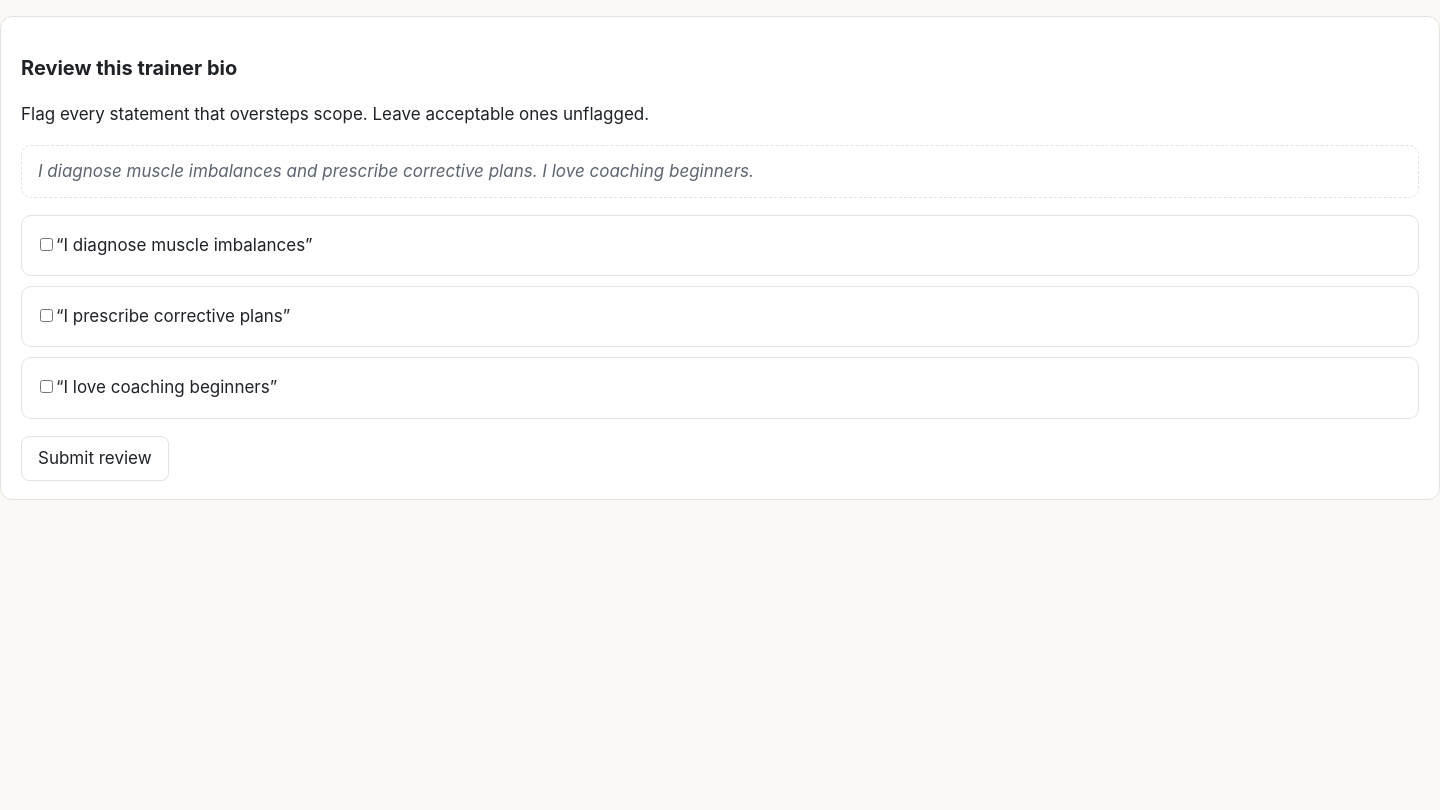
Scenario: ErrorId › grades flag-all-errors-no-false-flags and shows rationales
Expected: the text "I diagnose muscle imbalances and prescribe" is shown, top-left (38, 161), bottom-right (754, 181)
Click the checkbox labelled "“I diagnose muscle imbalances”".
click(46, 244)  # box top-left (40, 238), bottom-right (53, 251)
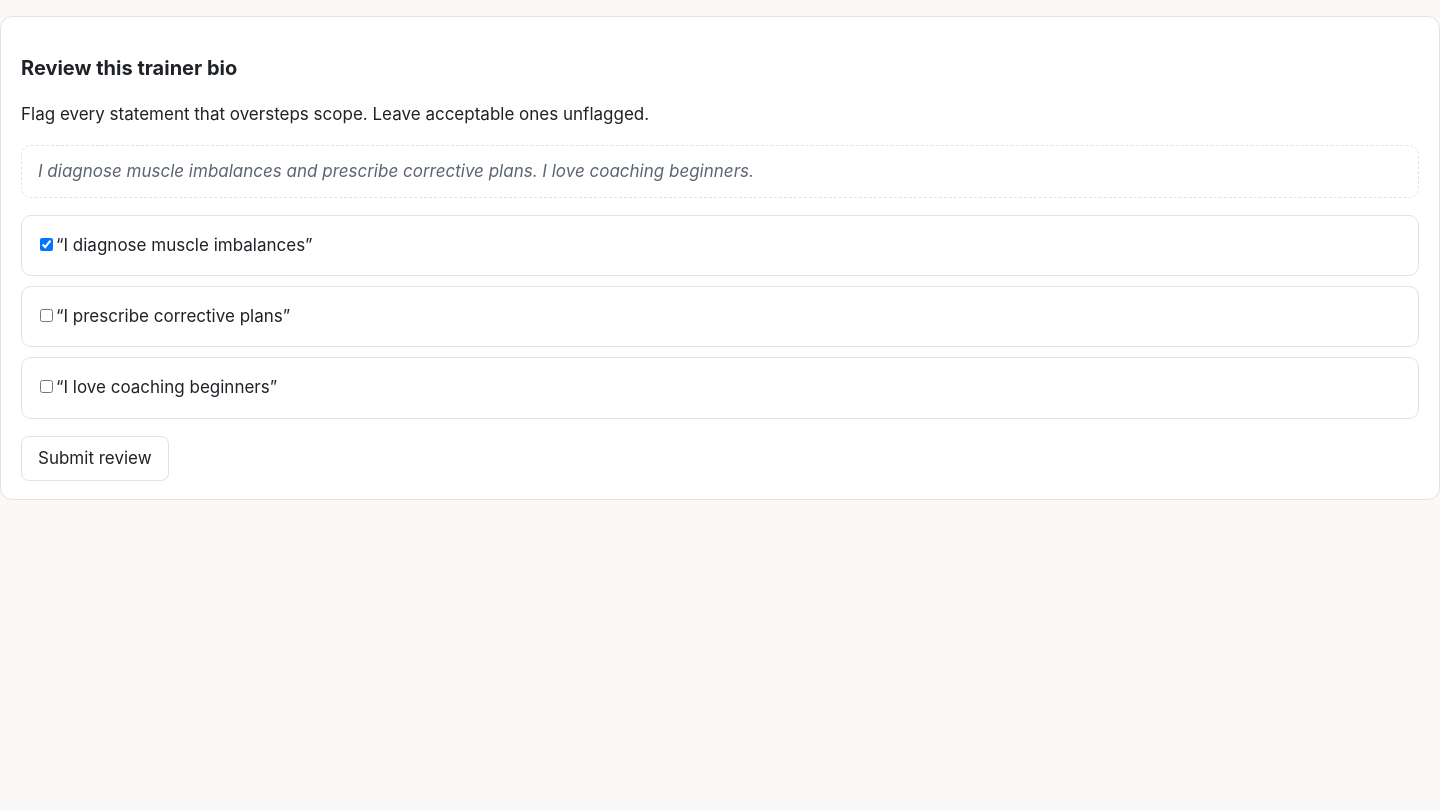
Click the checkbox labelled "“I love coaching beginners”".
click(46, 387)  # box top-left (40, 380), bottom-right (53, 393)
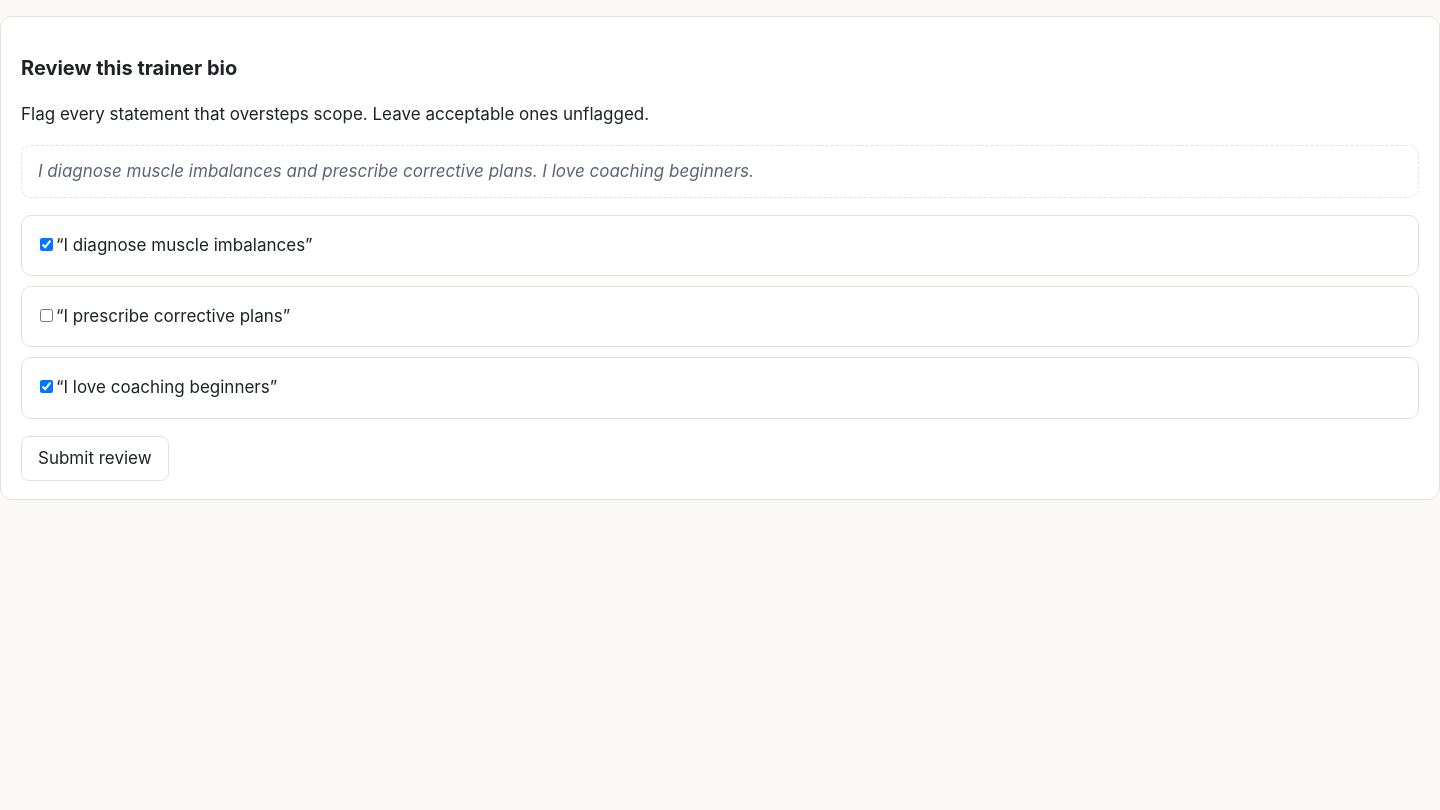
Click the button "Submit review".
click(95, 458)  # box top-left (21, 436), bottom-right (169, 481)
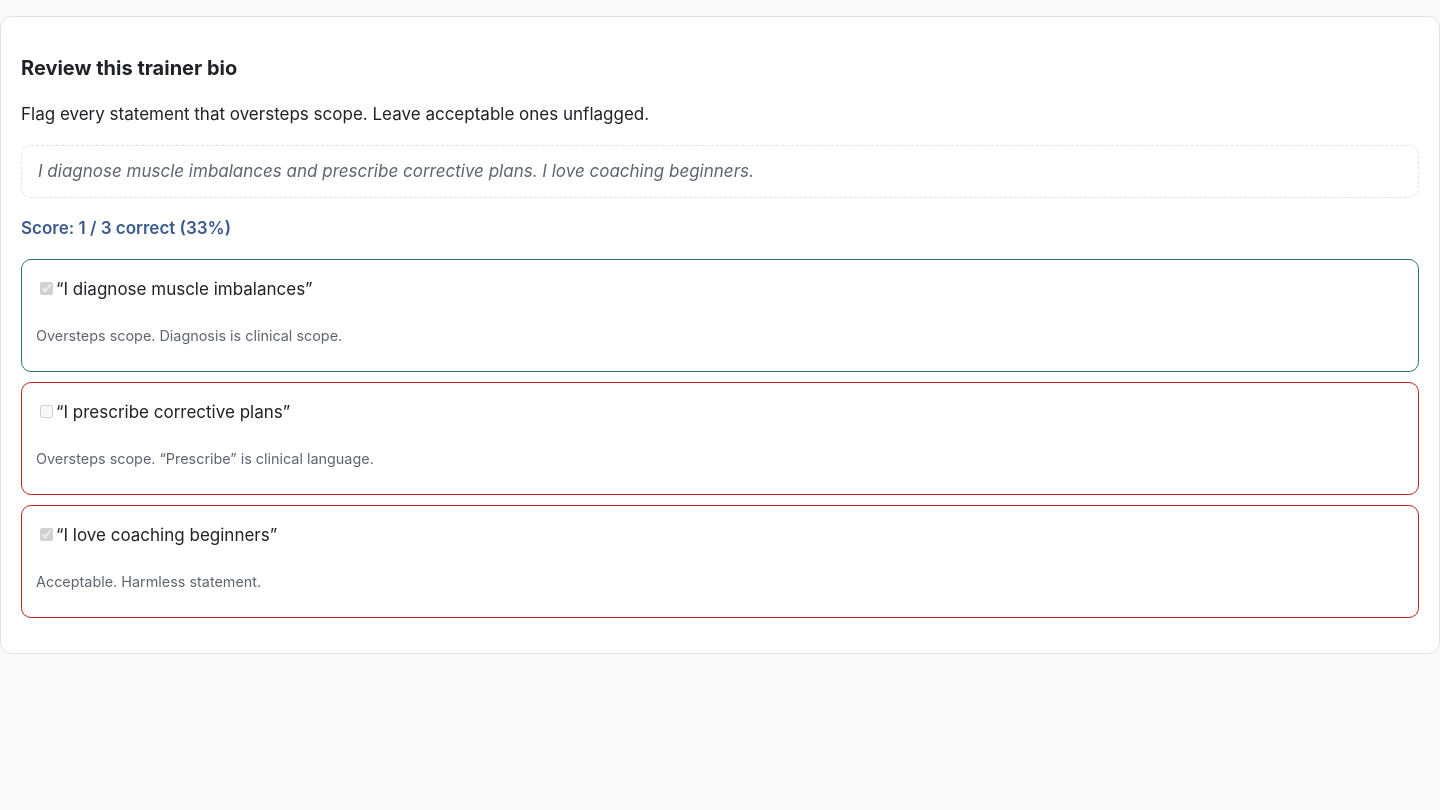
Expected: the text "Score: 1 / 3 correct (33%)" is shown, top-left (21, 218), bottom-right (231, 238)
Expected: the text "Oversteps scope. Diagnosis is clinical scope." is shown, top-left (36, 327), bottom-right (342, 344)
